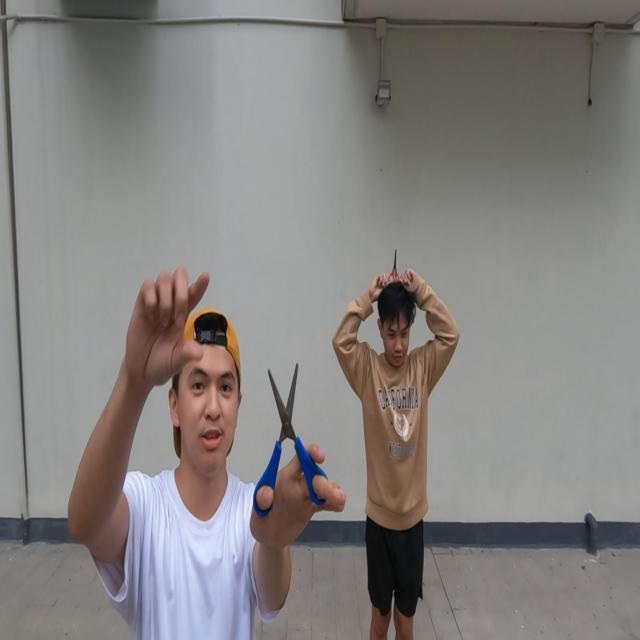scissor: (253, 359, 329, 519), (387, 245, 401, 283)
